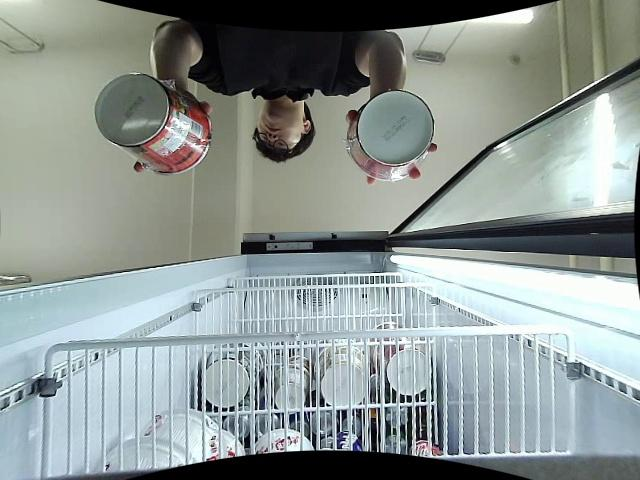00_hand: (343, 108, 439, 185), (132, 101, 212, 174)
01_shinRamen_L: (94, 73, 211, 179), (346, 90, 434, 180)
